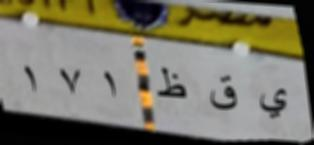1: (100, 65, 127, 105), (20, 63, 43, 94)
7: (61, 64, 81, 97)
Thaa: (152, 60, 188, 105)
qaaf: (205, 71, 238, 117)
yaa: (255, 85, 290, 123)
